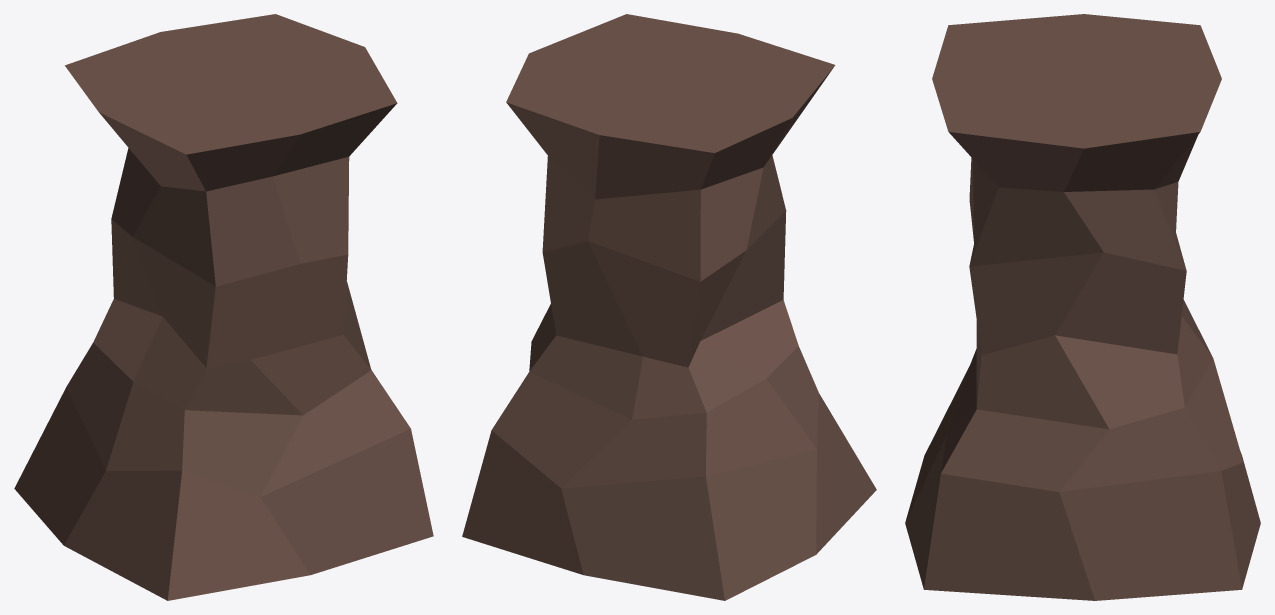
The model's file is Cave_Pillar_Single.fbx.
3 views of the same model, side by side, from view 1: azimuth 30°, elevation 25°; view 2: azimuth 150°, elevation 25°; view 3: azimuth 270°, elevation 25° (orthographic). The views are drawn at different scales.
Visible parts, largest first — view 1: Cave_Pillar_Single; view 2: Cave_Pillar_Single; view 3: Cave_Pillar_Single.
Boxes of the visible parts, left/top/right/bottom form: Cave_Pillar_Single: left=14, top=14, right=433, bottom=600; Cave_Pillar_Single: left=462, top=14, right=876, bottom=600; Cave_Pillar_Single: left=905, top=14, right=1260, bottom=600.
Bounding box in the file's own units: 2.25 × 2.17 × 3.
